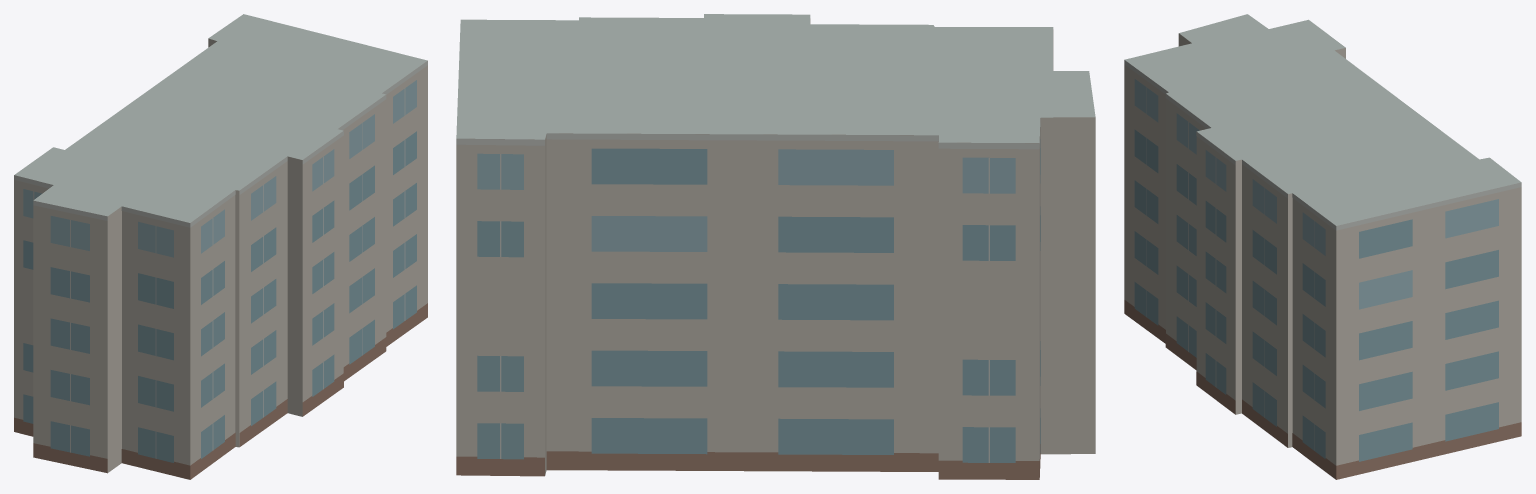
The model's file is survey-upis-32746427.glb.
3 views of the same model, side by side, from view 1: azimuth 30°, elevation 25°; view 2: azimuth 150°, elevation 25°; view 3: azimuth 270°, elevation 25° (orthographic). The views are drawn at different scales.
Parts seen in each view (by area): view 1: survey-upis-32746427.tmp; view 2: survey-upis-32746427.tmp; view 3: survey-upis-32746427.tmp.
Boxes of the visible parts, x1=… form: survey-upis-32746427.tmp: x1=14, y1=14, x2=427, y2=479; survey-upis-32746427.tmp: x1=456, y1=14, x2=1095, y2=479; survey-upis-32746427.tmp: x1=1124, y1=14, x2=1521, y2=479.
Size of the model in its own units: 24 by 13.4 by 19.01.
